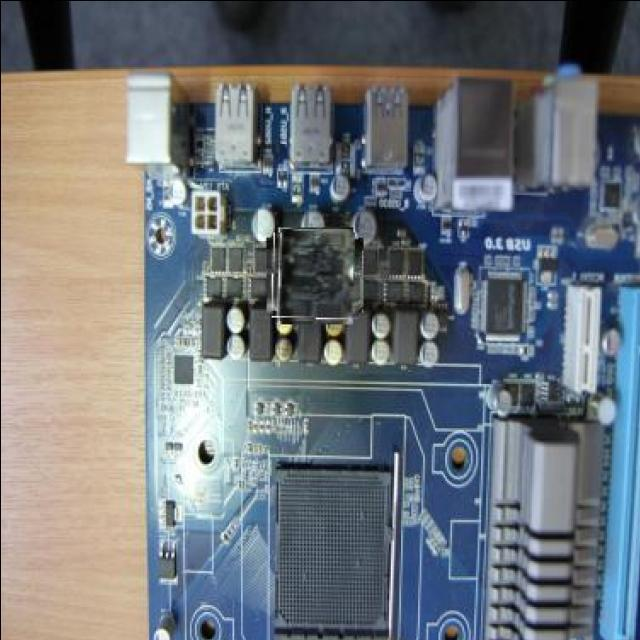Burn: (272, 229, 360, 317)
